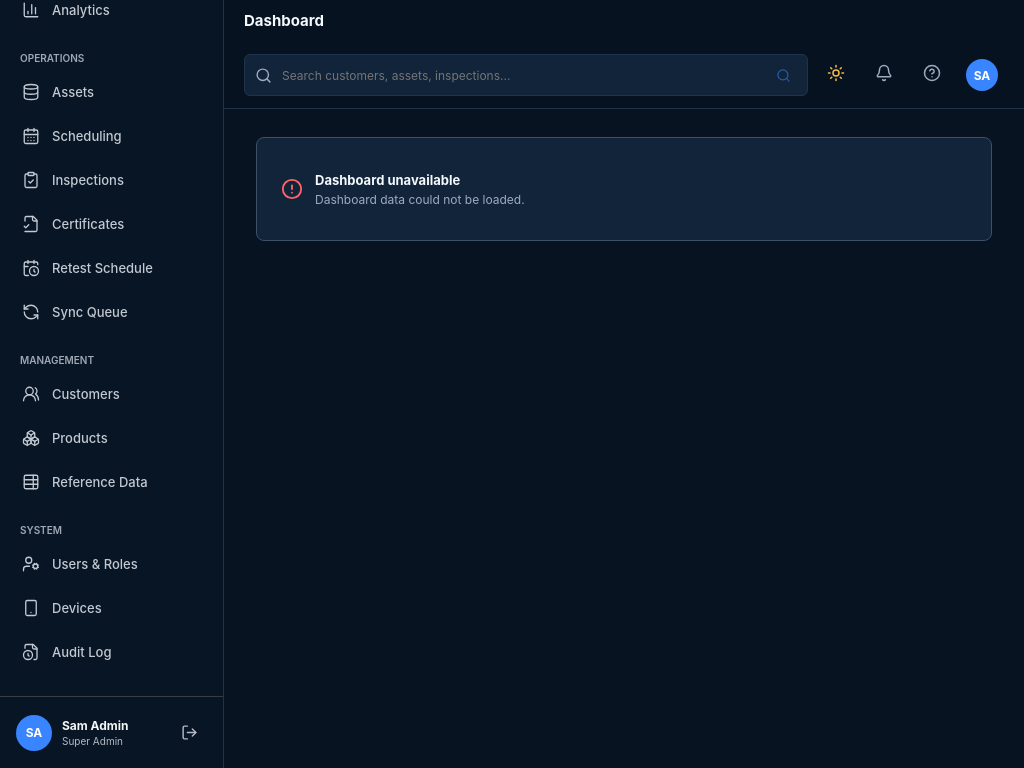
Scenario: App auth gating › signs out from the sidebar control back to the login screen
(page scrolled)
Click the button named "sign out": click(189, 732) [171, 714, 207, 750]
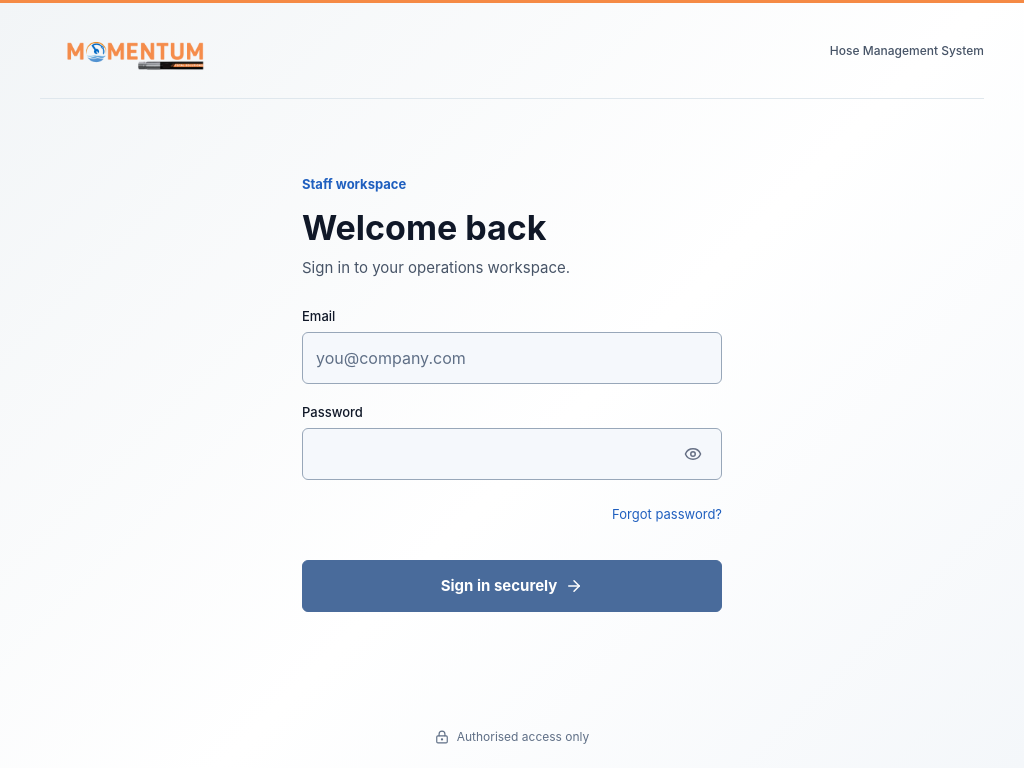
Expected: the button "Sign in securely" is shown, [302, 560, 722, 612]
